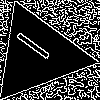I: (13, 29, 61, 68)
